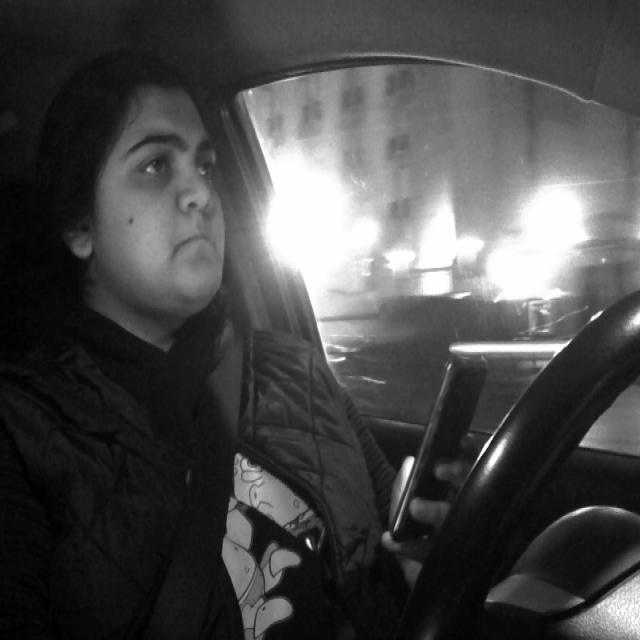drinking: (386, 351, 493, 545)
